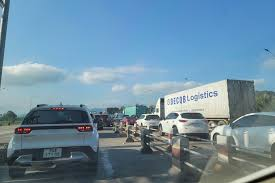Bien-so: (45, 147, 63, 157)
